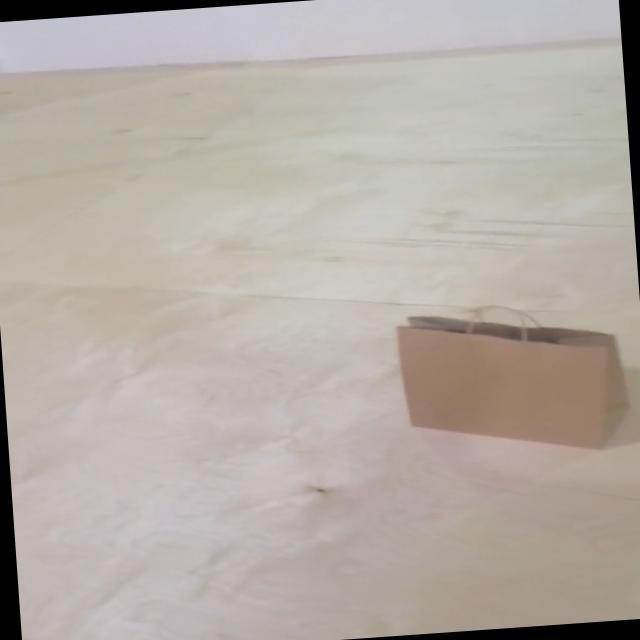Paper_Bag: (394, 296, 630, 464)
